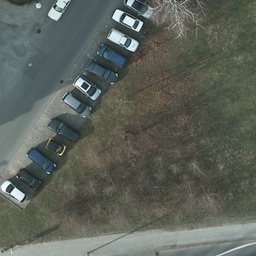car: (49, 117, 79, 142), (112, 8, 142, 32), (109, 28, 139, 52), (97, 42, 127, 66), (87, 60, 117, 84), (72, 75, 102, 99), (62, 92, 92, 116), (41, 134, 71, 158), (26, 148, 56, 172), (15, 167, 45, 191), (1, 181, 30, 205), (43, 1, 77, 20)
